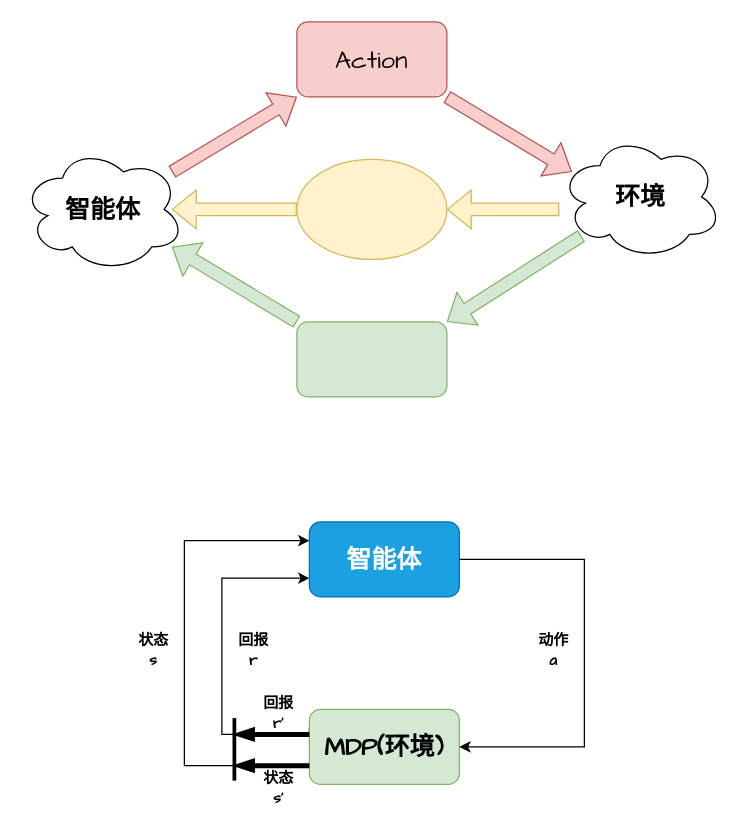
This 744x835 diagram has some shape labels left out. Each missing label, with the box of its shape:
Observation: (296, 321, 447, 397)
Reward: (296, 158, 447, 259)
